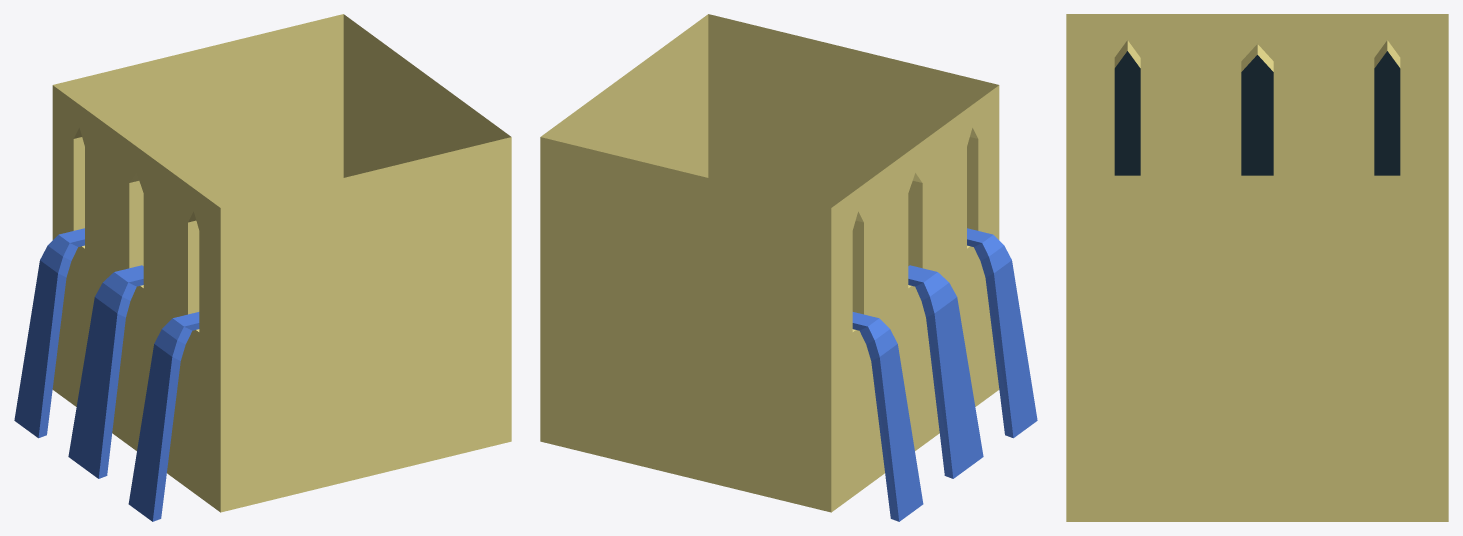
Rendered from base_water.FBX.
The picture shows the model from 3 angles, left to right: view 1: azimuth 30°, elevation 25°; view 2: azimuth 150°, elevation 25°; view 3: azimuth 270°, elevation 25°; orthographic projection. The views are drawn at different scales.
Parts seen in each view (by area): view 1: base_water; view 2: base_water; view 3: base_water.
Part boxes in pixels (left/top/right/bottom): base_water: left=14, top=14, right=511, bottom=521; base_water: left=540, top=14, right=1037, bottom=521; base_water: left=1066, top=14, right=1448, bottom=521.
Size of the model in its own units: 11.82 by 10.24 by 10.
